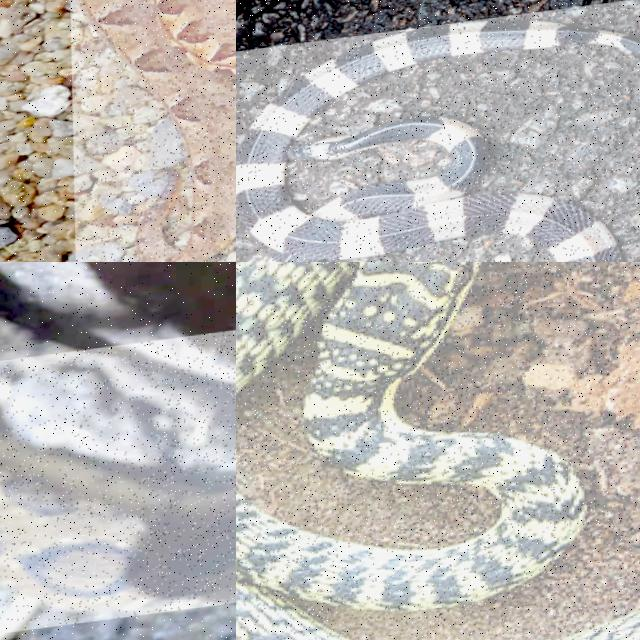Bungarus fasciatus: (236, 20, 639, 261)
Calloselasma rhodostoma: (78, 0, 235, 261)
Chrysopelea ornata: (236, 262, 580, 617)
Daboia siamensis: (0, 441, 235, 611)
snake: (236, 262, 580, 617), (236, 20, 639, 261), (78, 0, 235, 261), (0, 441, 235, 611)
